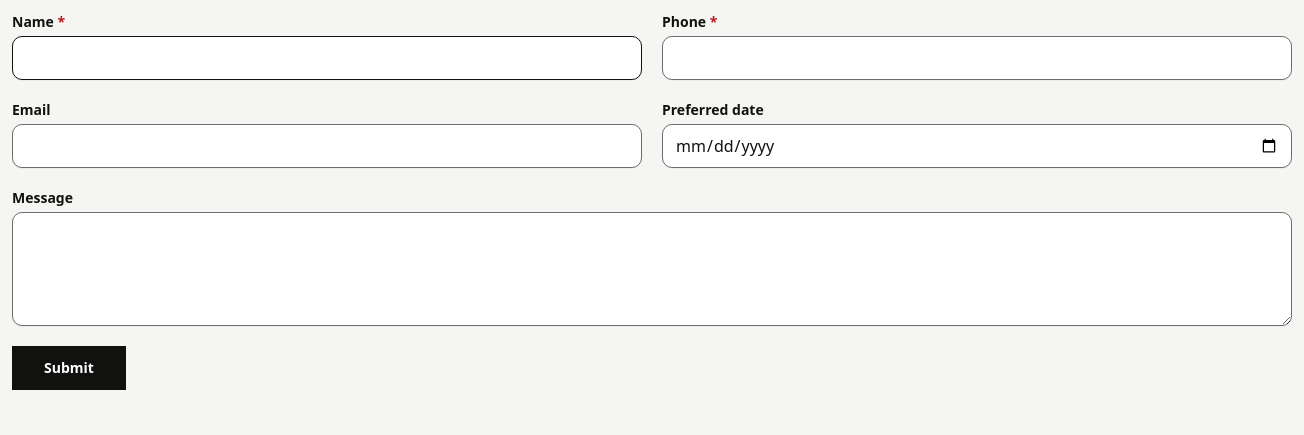
Test: ViewingForm (F7, SC-4, SC-5, SC-6, E1) › shows inline errors and sends no request for an empty name and an invalid phone (SC-5)
Type "12345" into the field labelled "Phone *".
click(977, 58); type("12345")  # box [662,36,1292,80]
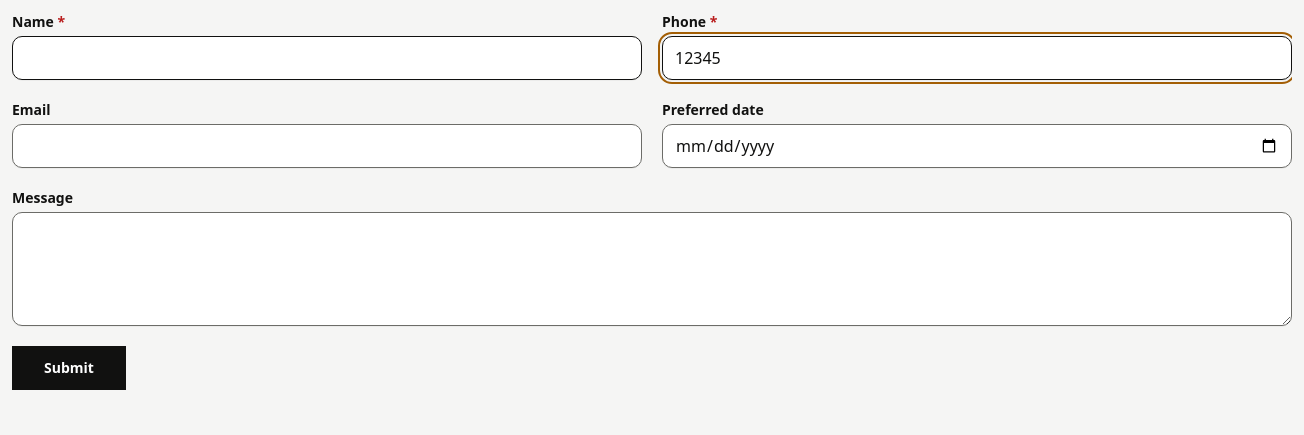
Click the button "Submit".
click(69, 368)  # box [12,346,126,390]
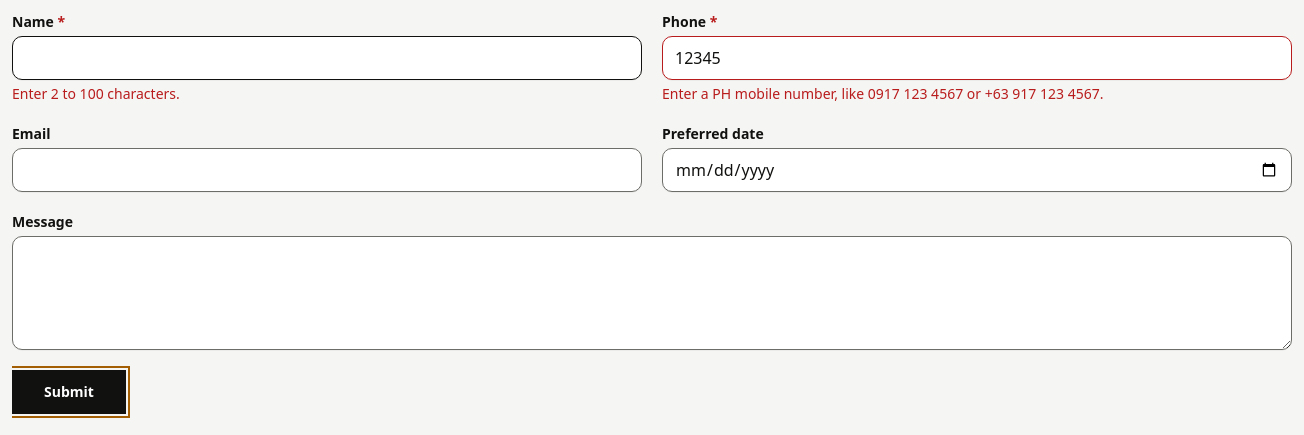
Now the text "Enter 2 to 100 characters." is shown, box [12,84,180,103]
Now the text "Enter a PH mobile number, like 0917 123 4567 or +63 917 123 4567." is shown, box [662,84,1104,103]
